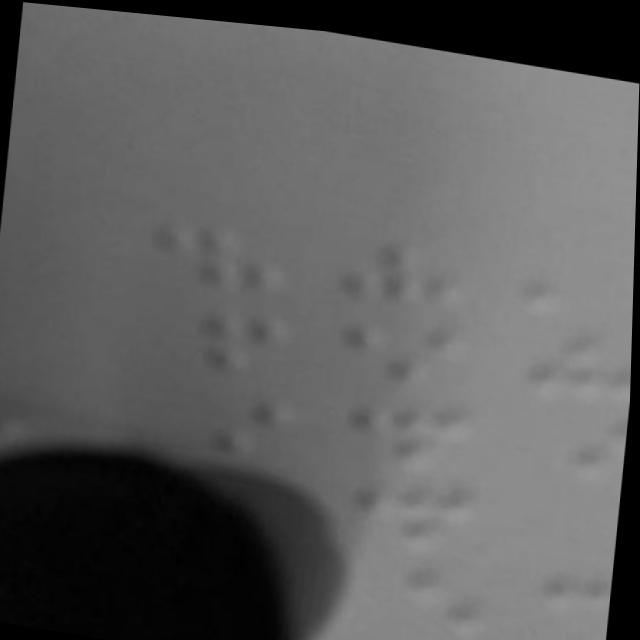braiile: (146, 370, 312, 475), (141, 211, 312, 307), (135, 288, 304, 384), (341, 466, 498, 568), (333, 386, 490, 484), (331, 302, 481, 404), (325, 225, 482, 320), (349, 555, 501, 640), (344, 627, 504, 640)
